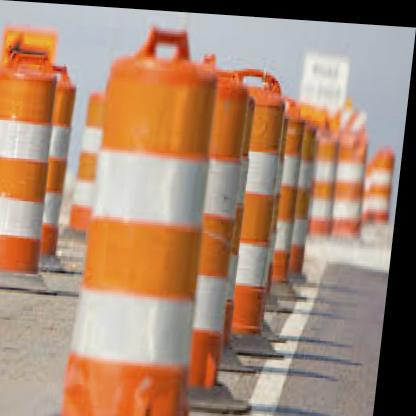obstacle: (71, 26, 234, 416), (0, 47, 68, 286)
